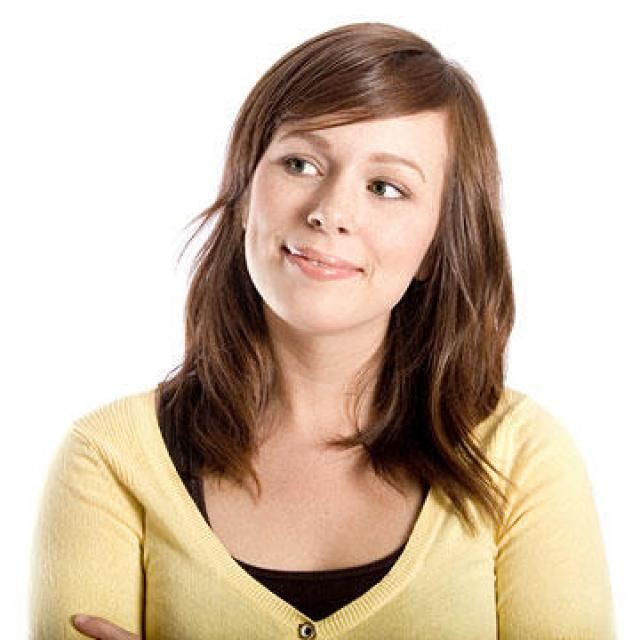mobile_phonerotation: (20, 20, 624, 638)
